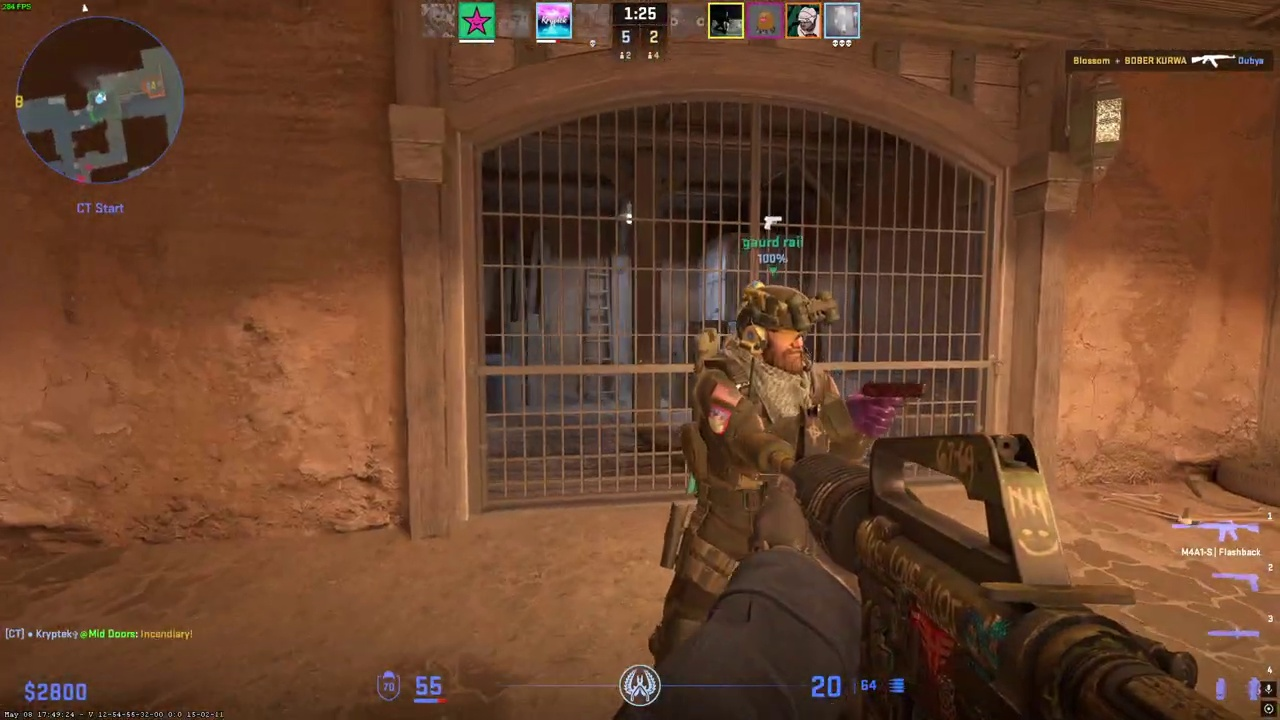CT: (658, 285, 867, 657)
